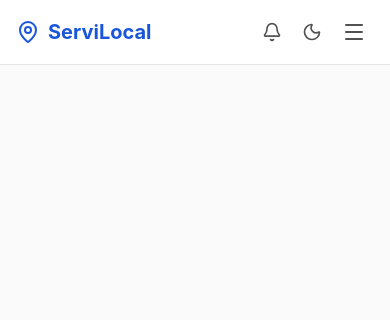
Test case: Header › el menú de móvil lleva las mismas secciones privadas
Click the button named "Abrir menú" at point(354, 32), box x1=334 y1=12 x2=374 y2=52
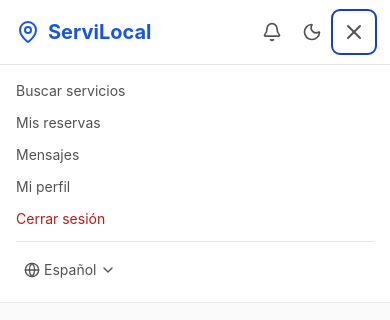
Check: the link "Mis reservas" is shown, box x1=16 y1=114 x2=101 y2=131
Check: the link "Mensajes" is shown, box x1=16 y1=146 x2=79 y2=163
